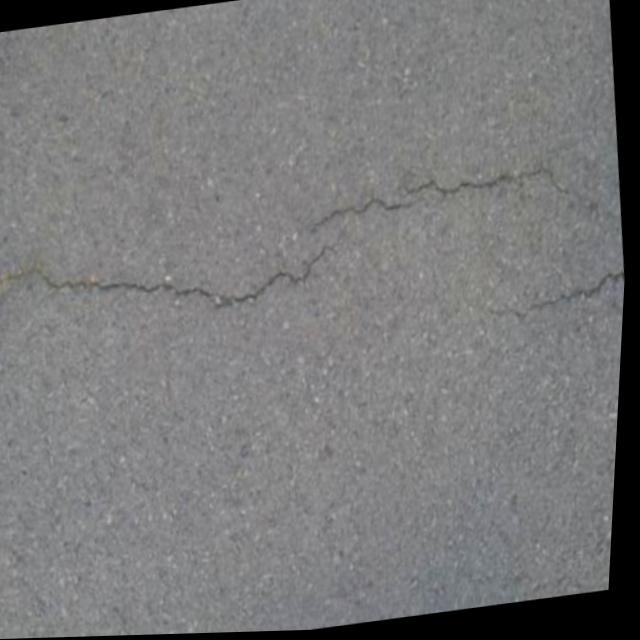Crack: (0, 215, 357, 347), (305, 152, 584, 244), (494, 265, 629, 331)
